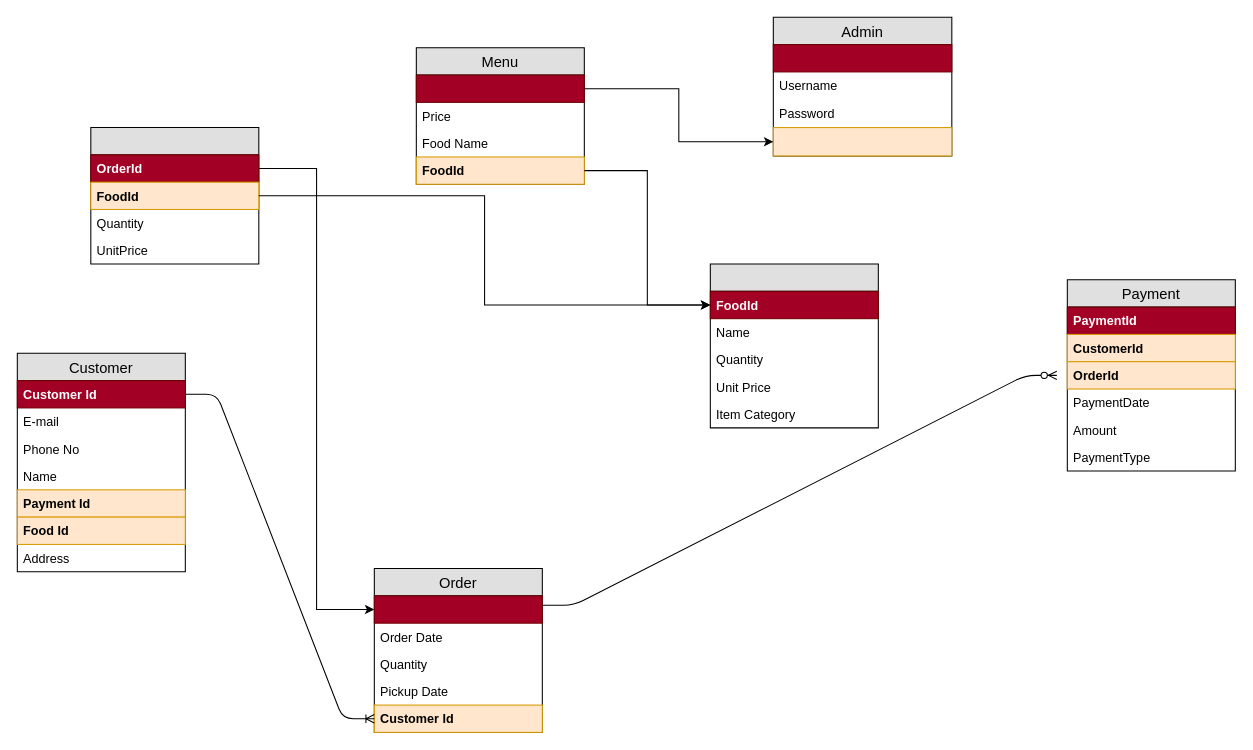
Some shapes in this 1253 by 750 pixel diagram are drawn without their labels. The shapes that lost their labels are listed below. From the top down, each one's box as (x1, y1, x2, y2) in pixels, then its label:
(772, 44, 952, 72): Admin Id
(415, 74, 584, 102): Menu Id
(772, 127, 952, 156): MenuId
(90, 127, 259, 264): OrderItem
(709, 263, 878, 428): FoodItem
(373, 595, 542, 623): Order Id
